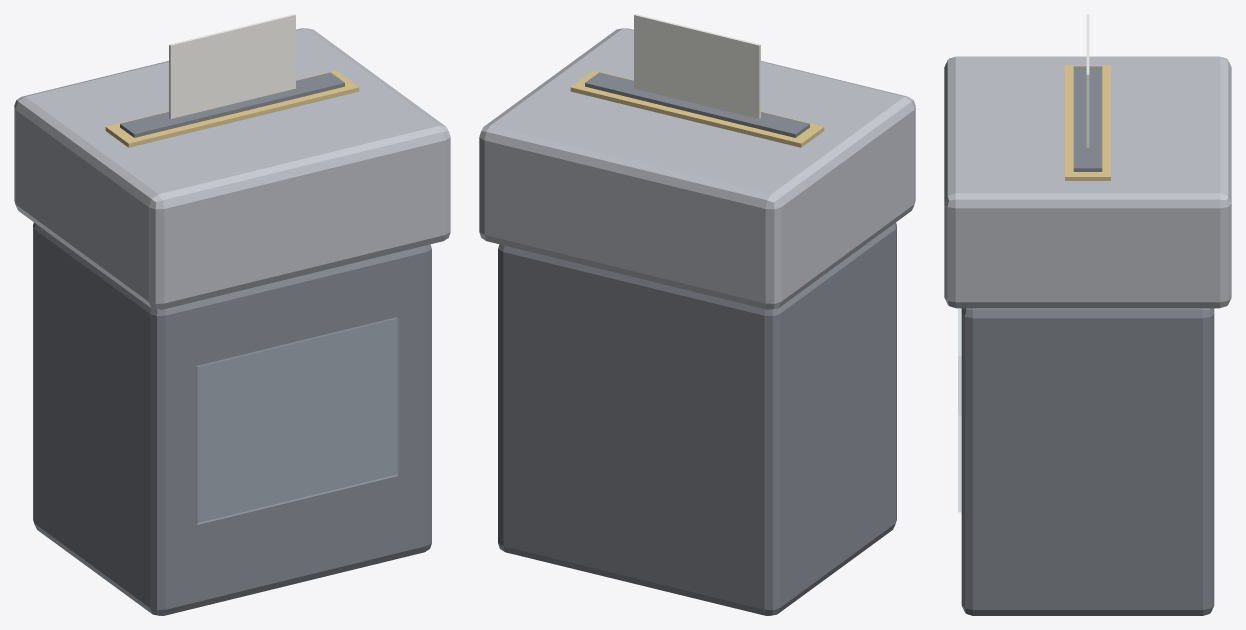
File: prop_shredder.glb
3 renders of one model, left to right at view 1: azimuth 30°, elevation 25°; view 2: azimuth 150°, elevation 25°; view 3: azimuth 270°, elevation 25°, orthographic.
Visible parts, largest first — view 1: Shredder; view 2: Shredder; view 3: Shredder.
Boxes of the visible parts, box(x1,y1,x2,y2) form: Shredder: box(14, 14, 450, 615); Shredder: box(479, 14, 915, 615); Shredder: box(944, 14, 1231, 615).
Bounding box in the file's own units: 0.6 × 0.975 × 0.5.
